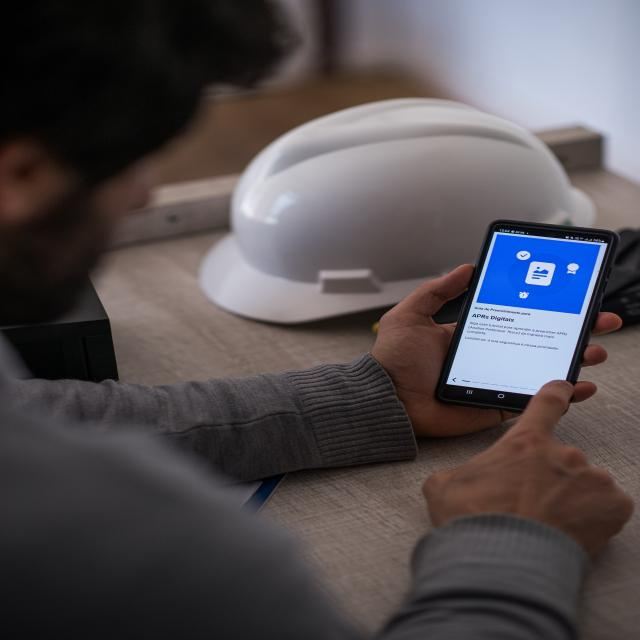capacete: (192, 92, 605, 335)
